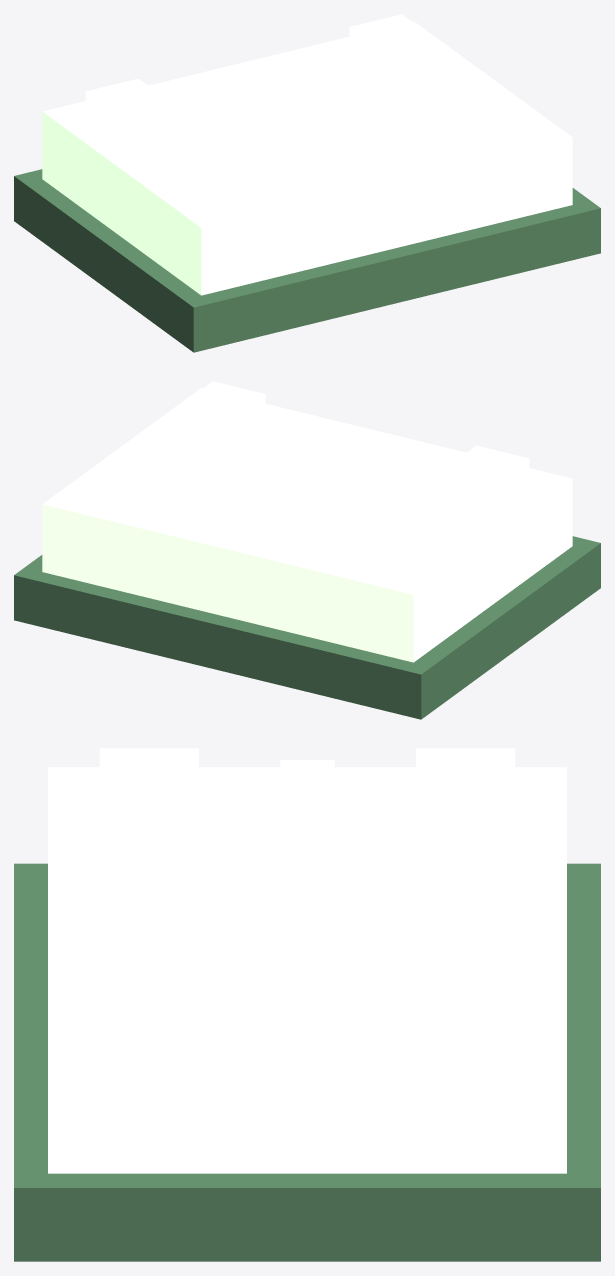
The model's file is interact_buff_hull.glb.
3 renders of one model, top to bottom at view 1: azimuth 30°, elevation 25°; view 2: azimuth 150°, elevation 25°; view 3: azimuth 270°, elevation 25°, orthographic. The views are drawn at different scales.
Parts seen in each view (by area): view 1: interact_buff_hull; view 2: interact_buff_hull; view 3: interact_buff_hull.
Part boxes in pixels (x1,y1,x2,y2): interact_buff_hull: (14,14,600,352); interact_buff_hull: (14,381,600,719); interact_buff_hull: (14,748,600,1261).
Bounding box in the file's own units: 1.7 × 0.55 × 1.3.
